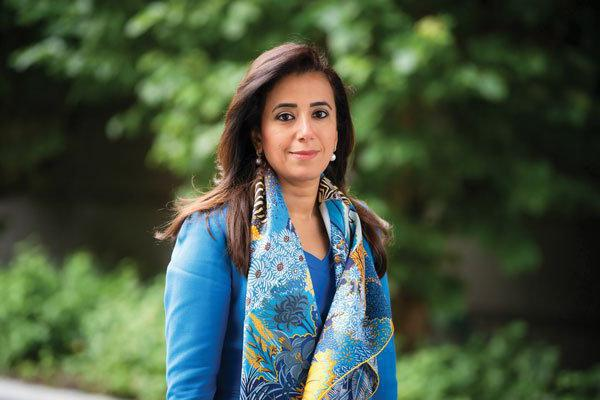Sober: (265, 83, 338, 170)
